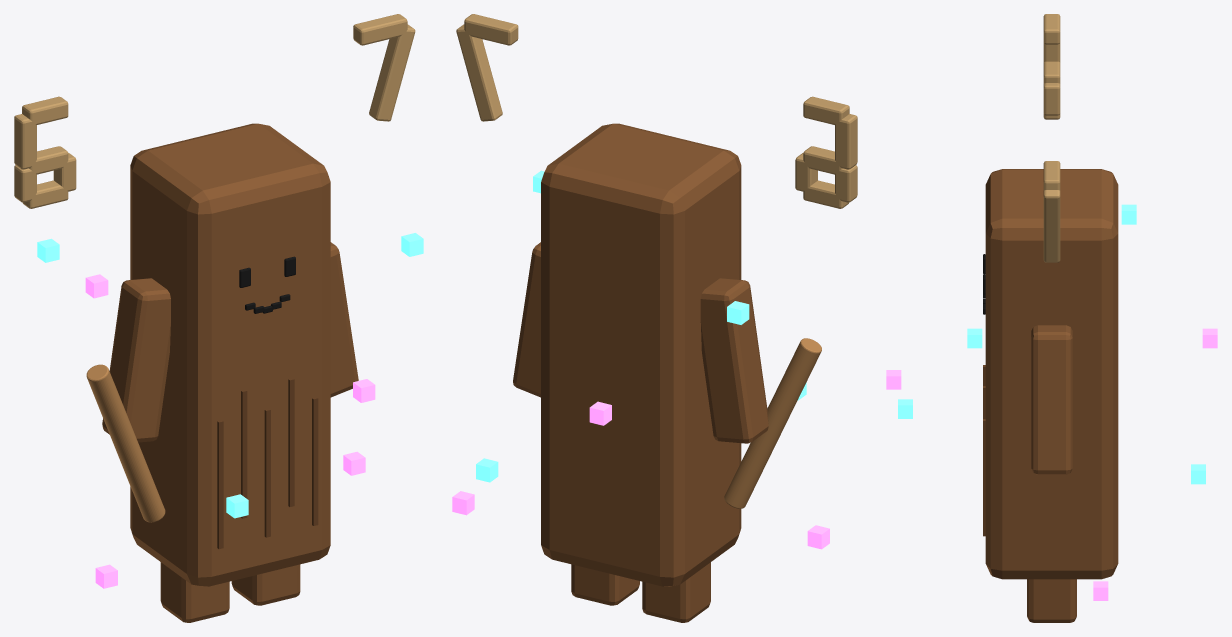
File: 07_TungTung67.fbx
3 views of the same model, side by side, from view 1: azimuth 30°, elevation 25°; view 2: azimuth 150°, elevation 25°; view 3: azimuth 270°, elevation 25° (orthographic). The views are drawn at different scales.
Parts seen in each view (by area): view 1: Log, LogArm.001, Bat, LogArm, LogLeg.001, FX_SevenLeg, LogLeg, FX_SevenTop, FX_Six, FX_Six.001, Grain, Grain.002 (+7 smaller); view 2: Log, LogArm.001, Bat, LogArm, LogLeg.001, FX_SevenLeg, LogLeg, FX_SevenTop, FX_Six, FX_Six.001, FX_Six.003, FX_Six.002 (+2 smaller); view 3: Log, LogArm, LogLeg, FX_SevenLeg, FX_Six.005, FX_Six.001, FX_SevenTop.
Boxes of the visible parts, box(x1,y1,x2,y2) form: Log: box(130, 123, 330, 586); LogArm.001: box(102, 278, 170, 442); Bat: box(86, 364, 165, 522); LogArm: box(330, 242, 358, 397); LogLeg.001: box(160, 562, 229, 622); FX_SevenLeg: box(369, 24, 415, 121); LogLeg: box(231, 564, 300, 605); FX_SevenTop: box(353, 14, 407, 45); FX_Six: box(14, 114, 36, 169); FX_Six.001: box(22, 96, 68, 124); Grain: box(217, 420, 223, 549); Grain.002: box(264, 408, 270, 537); Log: box(541, 123, 741, 586); LogArm.001: box(700, 278, 768, 443); Bat: box(724, 338, 821, 508); LogArm: box(513, 242, 540, 397); LogLeg.001: box(642, 562, 710, 622); FX_SevenLeg: box(456, 24, 502, 121); LogLeg: box(571, 564, 639, 605); FX_SevenTop: box(464, 14, 518, 45); FX_Six: box(835, 114, 857, 169); FX_Six.001: box(803, 96, 849, 124); FX_Six.003: box(803, 180, 849, 208); FX_Six.002: box(803, 146, 842, 174); Log: box(985, 169, 1118, 579); LogArm: box(1031, 325, 1072, 474); LogLeg: box(1027, 579, 1076, 622); FX_SevenLeg: box(1043, 190, 1060, 262); FX_Six.005: box(1043, 83, 1060, 115); FX_Six.001: box(1043, 14, 1060, 44); FX_SevenTop: box(1043, 161, 1060, 190).
Size of the model in its own units: 500 by 660 by 400.
